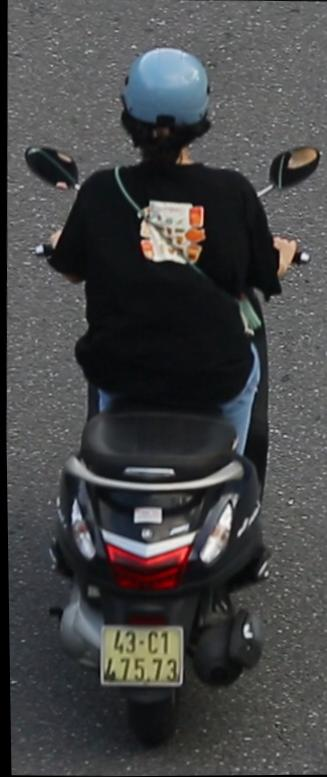LP: (91, 611, 186, 697)
helmet: (110, 37, 220, 197)
